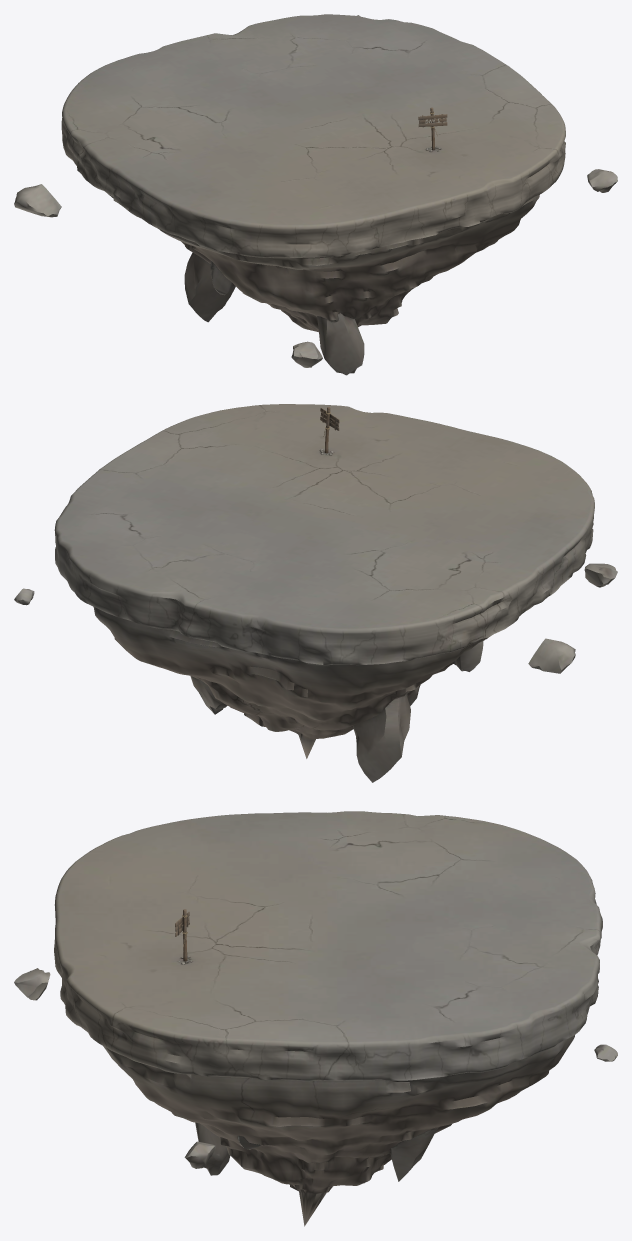
Rendered from day1.glb.
The picture shows the model from 3 angles, top to bottom: view 1: azimuth 30°, elevation 25°; view 2: azimuth 150°, elevation 25°; view 3: azimuth 270°, elevation 25°; orthographic projection. The views are drawn at different scales.
Visible parts, largest first — view 1: Island, Rock_1, Rock_4, Rock_2; view 2: Island, Rock_1, Rock_4; view 3: Island, Rock_4, Rock_2.
Part boxes in pixels (left/top/right/bottom): Island: left=61, top=14, right=565, bottom=375; Rock_1: left=14, top=184, right=61, bottom=217; Rock_4: left=291, top=341, right=322, bottom=367; Rock_2: left=587, top=169, right=617, bottom=192; Island: left=54, top=404, right=594, bottom=782; Rock_1: left=528, top=638, right=575, bottom=673; Rock_4: left=584, top=563, right=617, bottom=587; Island: left=54, top=811, right=602, bottom=1226; Rock_4: left=14, top=968, right=50, bottom=1000; Rock_2: left=184, top=1141, right=215, bottom=1168.
Size of the model in its own units: 30.43 by 16.1 by 26.36.
5 materials, 2 textured.
